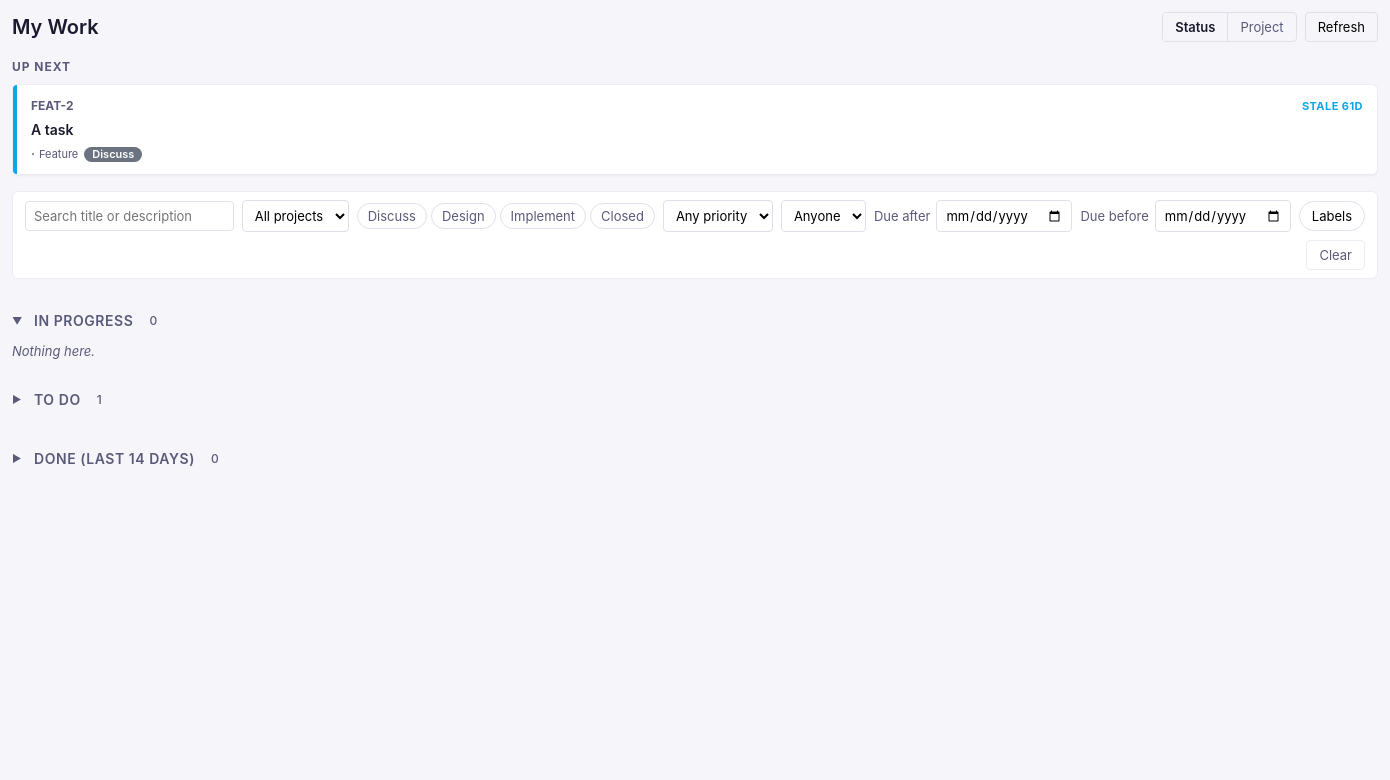
MyWorkView › toggling a group heading expands or collapses its task list
Click the button with test id "my-work-group-heading-todo". click: (57, 399)
box: [12, 386, 1378, 413]
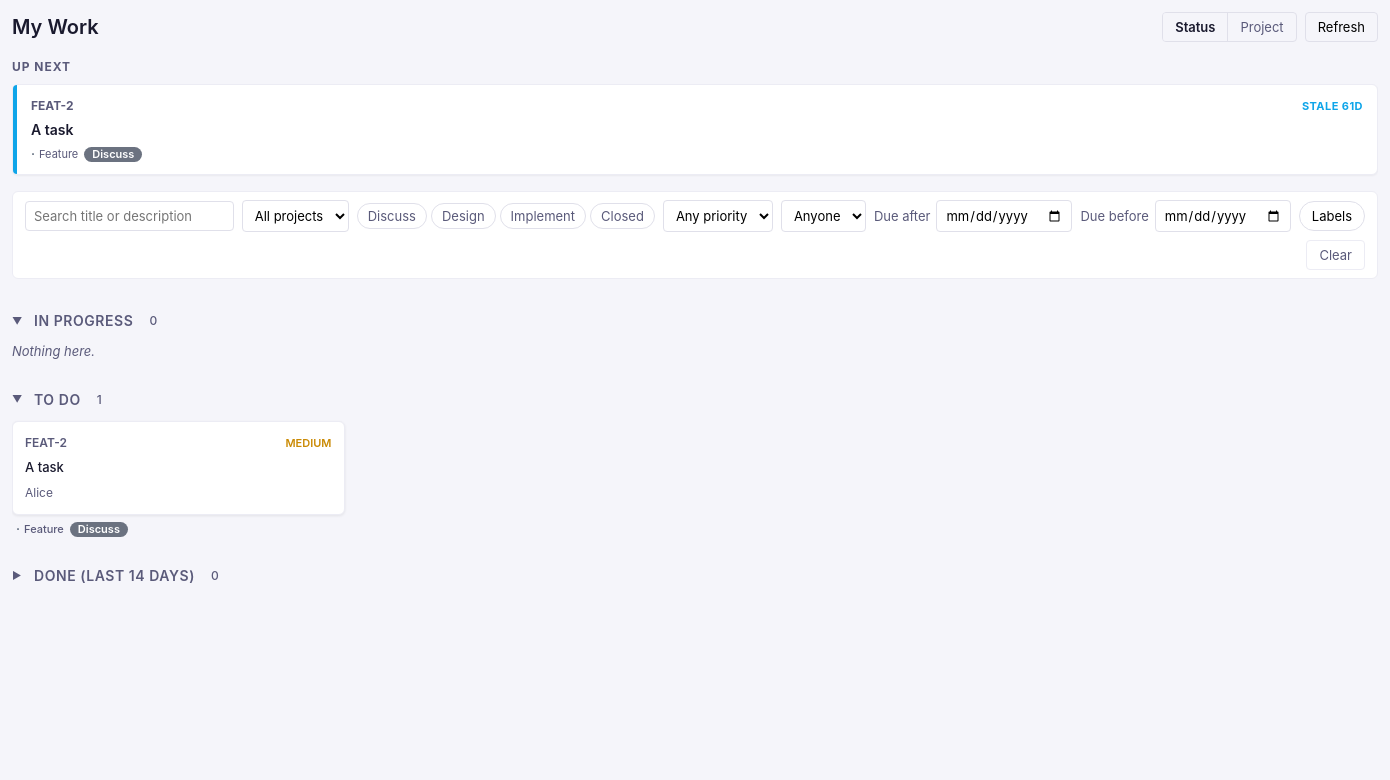
expect the list item with test id "my-work-card-FEAT-2" is shown: met, box [12, 421, 344, 538]
